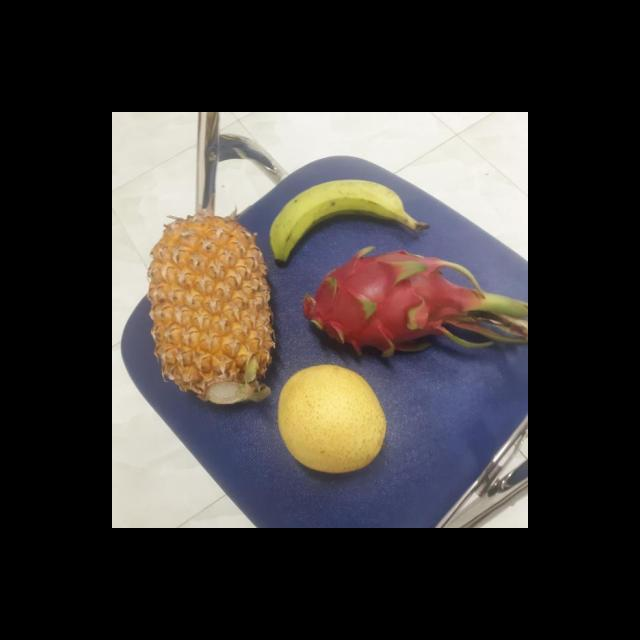banana: (268, 179, 412, 262)
pear: (273, 361, 387, 474)
pineapple: (147, 216, 275, 404)
pitaya: (287, 246, 473, 362)
